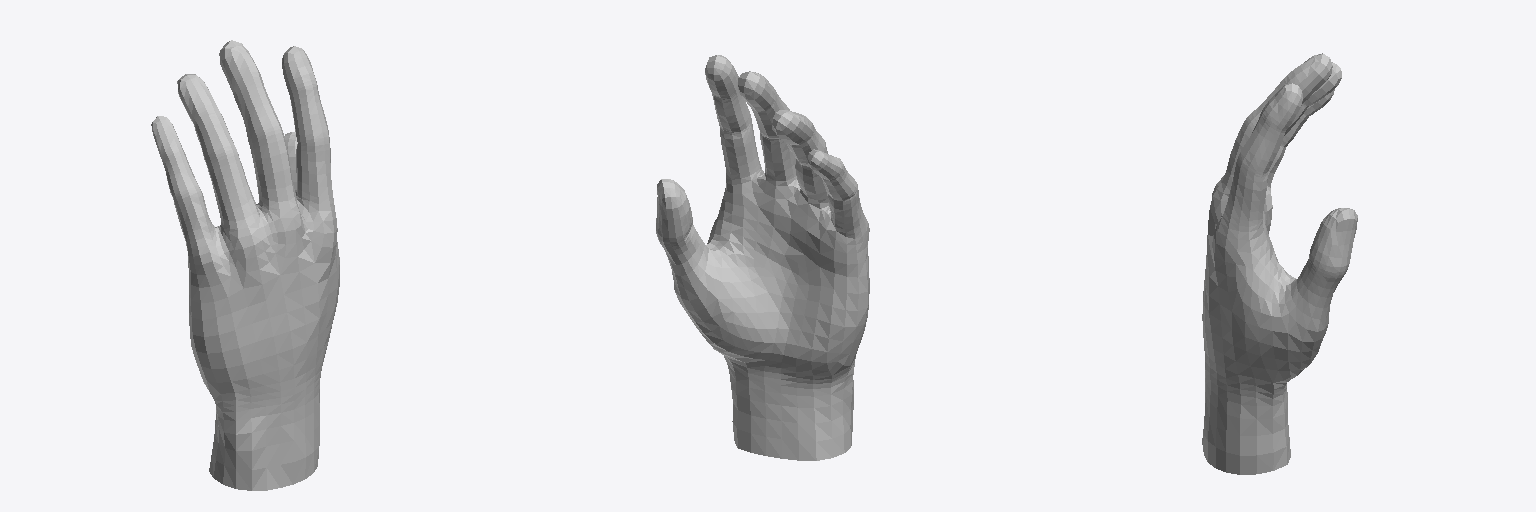
File: decimated_hand.obj
3 views of the same model, side by side, from view 1: azimuth 30°, elevation 25°; view 2: azimuth 150°, elevation 25°; view 3: azimuth 270°, elevation 25° (orthographic).
Visible parts, largest first — view 1: hand; view 2: hand; view 3: hand.
Part boxes in pixels (x1,y1,x2,y2): hand: (151,40,339,490); hand: (656,55,869,460); hand: (1202,53,1357,474).
Bounding box in the file's own units: 2.14 × 4.84 × 1.7.